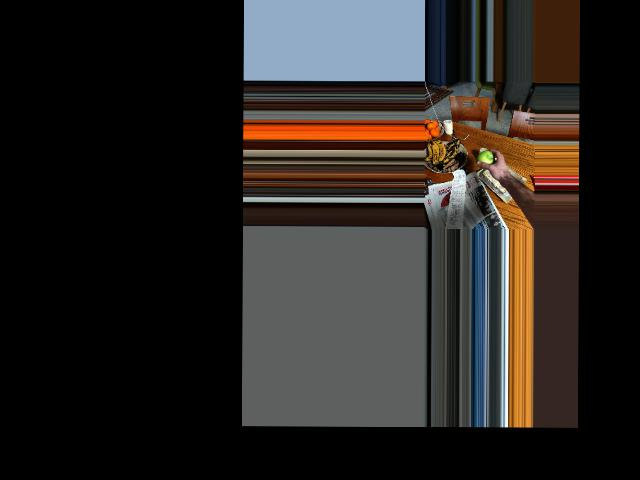apple: (477, 150, 496, 169)
